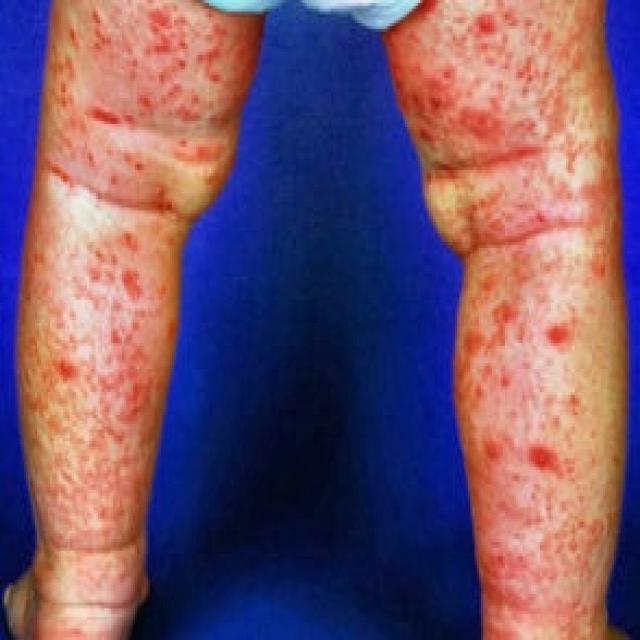Warts-Molluscum-and-other-Viral-Infections: (374, 25, 590, 598), (37, 9, 200, 548)
